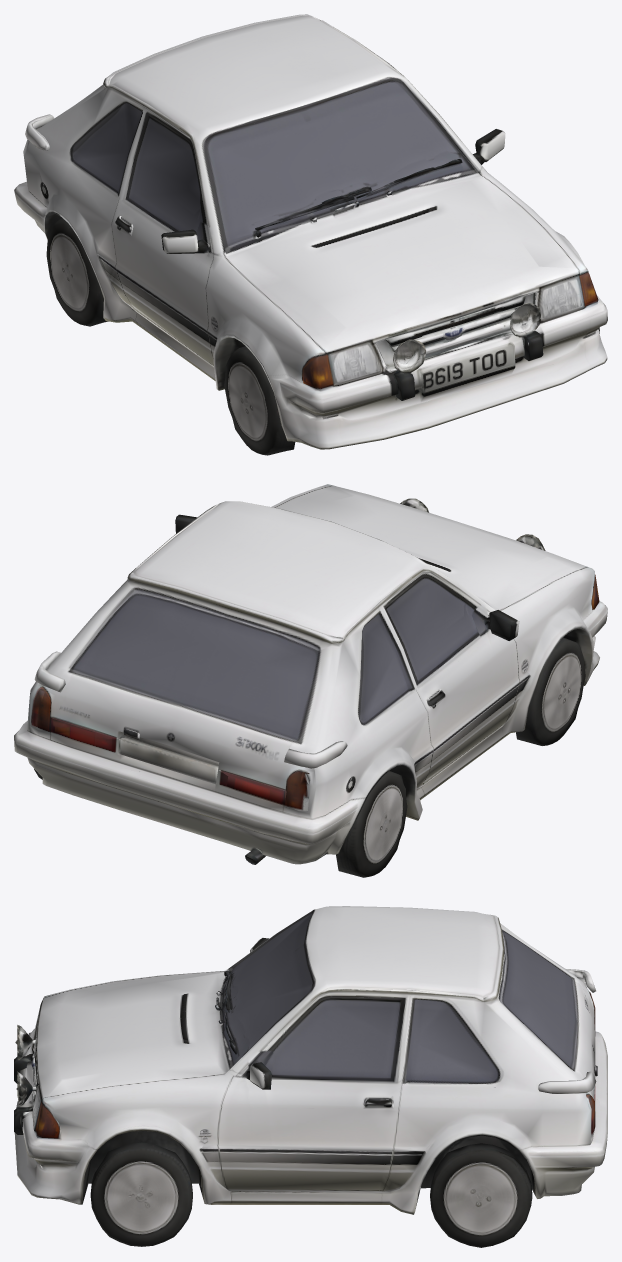
Rendered from ford_escort_upload.glb.
3 views of the same model, one above another, from view 1: azimuth 30°, elevation 25°; view 2: azimuth 150°, elevation 25°; view 3: azimuth 270°, elevation 25° (orthographic). The views are drawn at different scales.
Visible parts, largest first — view 1: tripo_node_16d48d19-6870-4a39-ae86-7418fbe7ddfb; view 2: tripo_node_16d48d19-6870-4a39-ae86-7418fbe7ddfb; view 3: tripo_node_16d48d19-6870-4a39-ae86-7418fbe7ddfb.
Part boxes in pixels (<box>): tripo_node_16d48d19-6870-4a39-ae86-7418fbe7ddfb: <box>14,14,607,455</box>; tripo_node_16d48d19-6870-4a39-ae86-7418fbe7ddfb: <box>14,484,607,877</box>; tripo_node_16d48d19-6870-4a39-ae86-7418fbe7ddfb: <box>14,906,607,1247</box>.
Bounding box in the file's own units: 0.6543 × 0.4512 × 0.998.
Materials: 1 (1 with a texture image).
